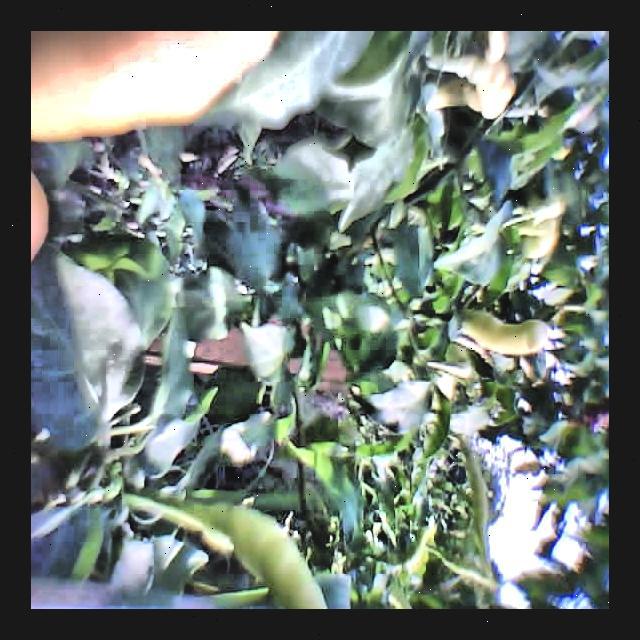Cabai: (31, 31, 290, 131)
